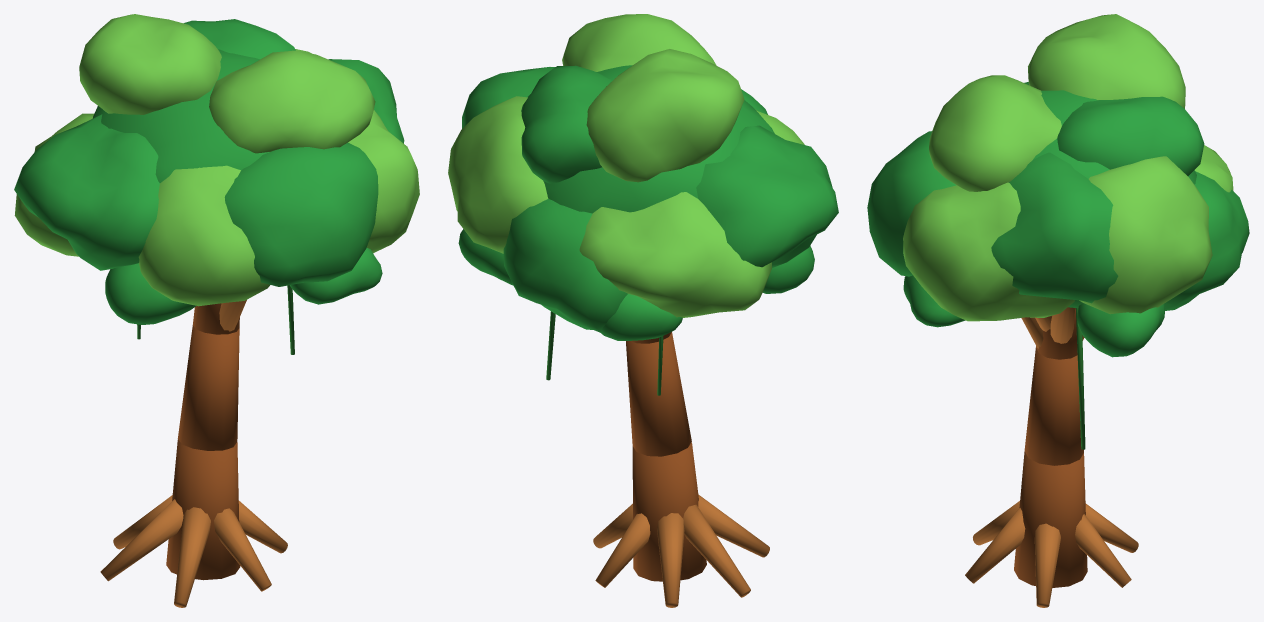
The model's file is JungleTree.fbx.
3 renders of one model, left to right at view 1: azimuth 30°, elevation 25°; view 2: azimuth 150°, elevation 25°; view 3: azimuth 270°, elevation 25°, orthographic.
Parts seen in each view (by area): view 1: CanopyClump_6, CanopyClump_4, CanopyTop_0, CanopyClump_5, CanopyTop_2, CanopyCore, TreeTrunk_1, TreeTrunk_0, CanopyClump_7, UnderTuft_2, CanopyTop_1, UnderTuft_3 (+9 smaller); view 2: CanopyClump_3, CanopyTop_2, CanopyClump_4, CanopyClump_2, CanopyClump_1, CanopyTop_1, CanopyCore, TreeTrunk_1, TreeTrunk_0, CanopyTop_0, UnderTuft_1, CanopyClump_0 (+7 smaller); view 3: CanopyClump_1, CanopyClump_7, CanopyClump_0, CanopyTop_0, CanopyTop_2, CanopyTop_1, TreeTrunk_0, CanopyClump_6, TreeTrunk_1, CanopyClump_2, UnderTuft_0, CanopyCore (+10 smaller).
Part boxes in pixels (<box>): CanopyClump_6: <box>224,142,378,286</box>; CanopyClump_4: <box>14,114,159,270</box>; CanopyTop_0: <box>209,50,375,153</box>; CanopyClump_5: <box>138,165,269,306</box>; CanopyTop_2: <box>79,14,221,114</box>; CanopyCore: <box>92,49,269,182</box>; TreeTrunk_1: <box>177,325,239,450</box>; TreeTrunk_0: <box>166,439,240,580</box>; CanopyClump_7: <box>348,110,419,253</box>; UnderTuft_2: <box>105,263,196,324</box>; CanopyTop_1: <box>184,19,295,59</box>; UnderTuft_3: <box>290,248,382,304</box>; CanopyClump_3: <box>579,192,771,317</box>; CanopyTop_2: <box>586,49,744,182</box>; CanopyClump_4: <box>696,125,838,267</box>; CanopyClump_2: <box>503,199,627,332</box>; CanopyClump_1: <box>448,96,548,253</box>; CanopyTop_1: <box>521,65,611,183</box>; CanopyCore: <box>527,65,774,213</box>; TreeTrunk_1: <box>626,332,691,456</box>; TreeTrunk_0: <box>632,442,706,581</box>; CanopyTop_0: <box>562,14,716,71</box>; UnderTuft_1: <box>600,294,682,340</box>; CanopyClump_0: <box>462,67,555,128</box>; CanopyClump_1: <box>1079,156,1212,314</box>; CanopyClump_7: <box>903,182,1074,321</box>; CanopyClump_0: <box>991,152,1118,303</box>; CanopyTop_0: <box>929,75,1061,191</box>; CanopyTop_2: <box>1028,14,1185,108</box>; CanopyTop_1: <box>1057,96,1204,175</box>; TreeTrunk_0: <box>1014,451,1087,587</box>; CanopyClump_6: <box>867,131,956,276</box>; TreeTrunk_1: <box>1024,348,1083,465</box>; CanopyClump_2: <box>1164,171,1249,310</box>; UnderTuft_0: <box>1077,303,1164,357</box>; CanopyCore: <box>1024,82,1196,308</box>.
Size of the model in its own units: 5.76 by 8.24 by 5.39.
